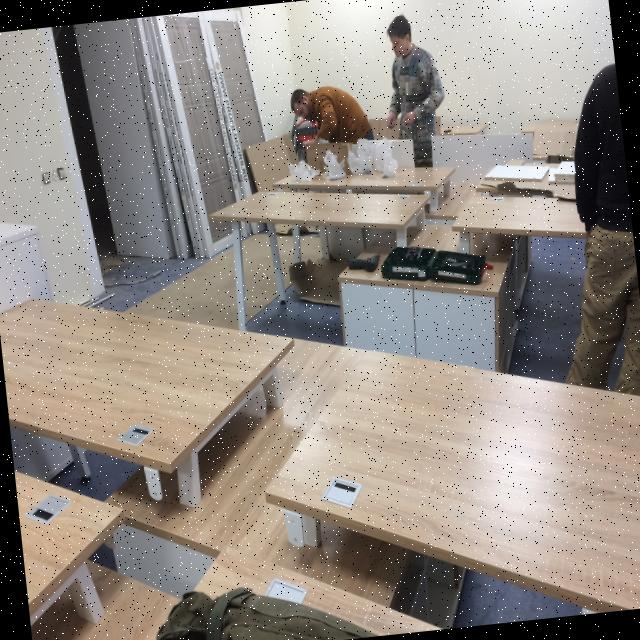NoHelmet: (385, 13, 416, 59), (289, 86, 317, 125)
